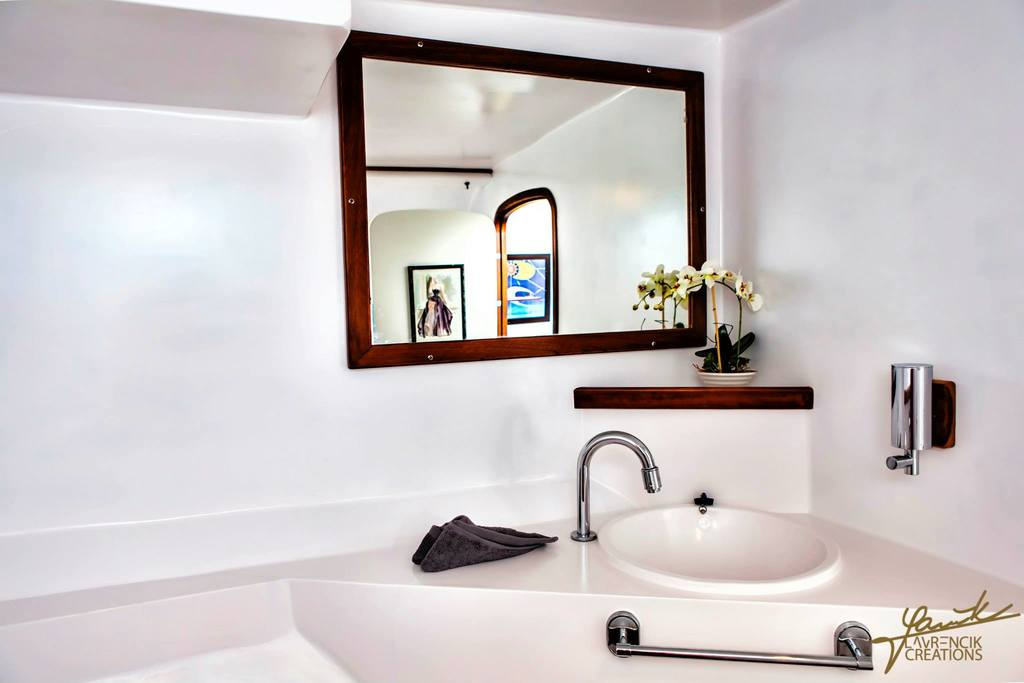tap: (576, 428, 664, 540)
